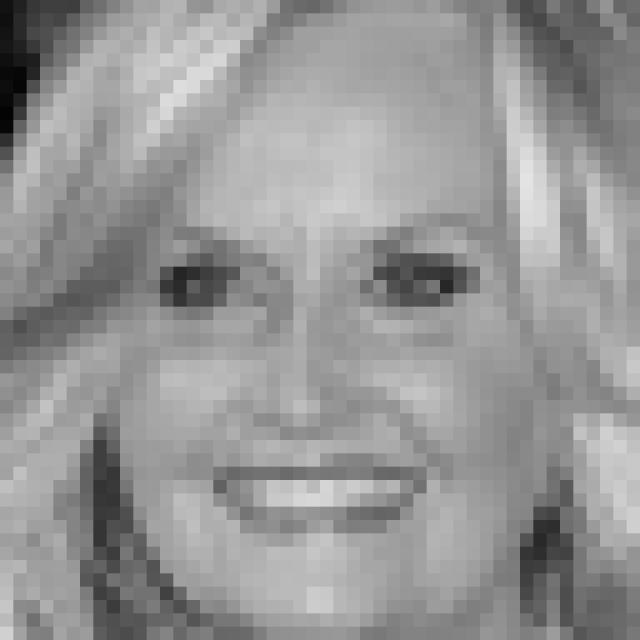happy: (143, 201, 510, 553)
